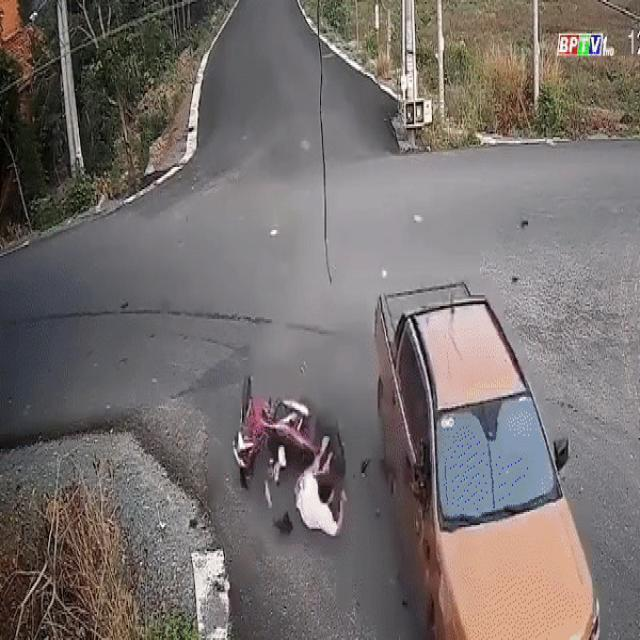multiple_accident: (229, 271, 607, 640)
